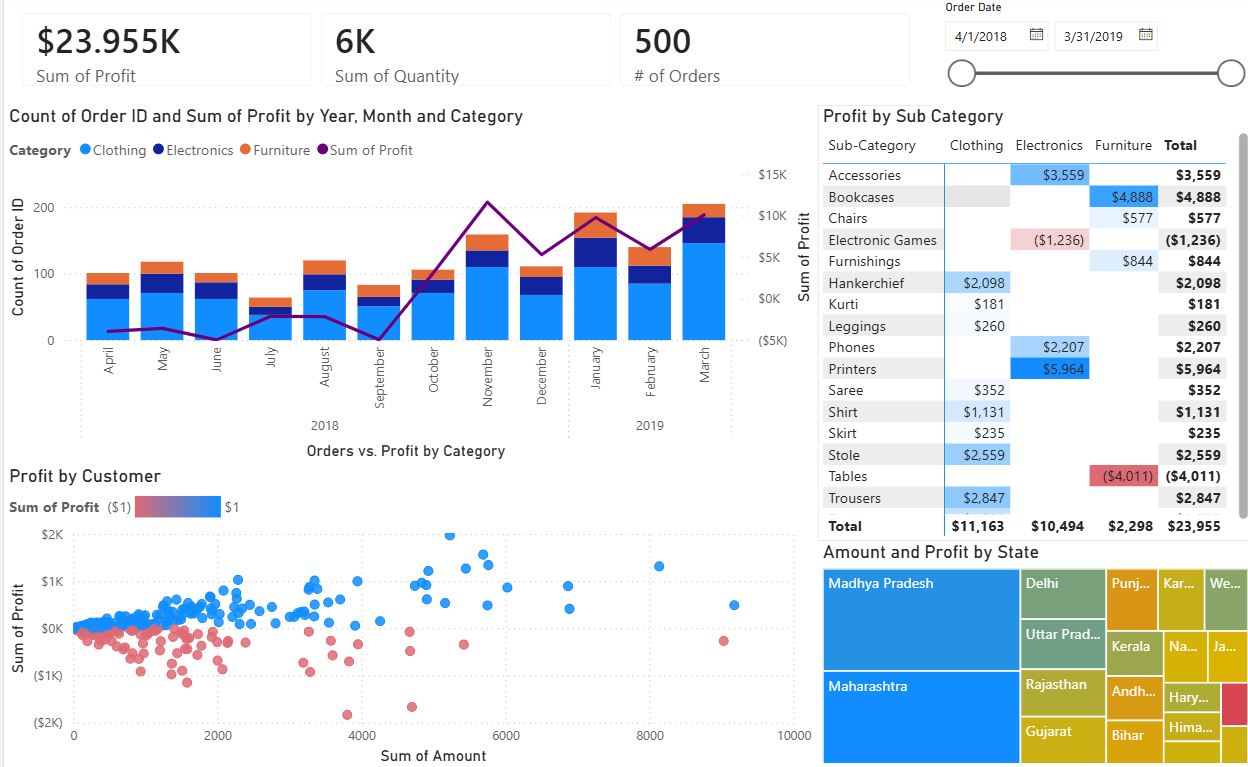

What the dashboard file says about the page in this screenshot:
{"tool":"powerbi","page":{"name":"Profit Analysis","canvas":[1280,720],"ordinal":0},"visuals":[{"type":"cardVisual","fields":{"Data":["Sum(Order Details.Profit)","Sum(Order Details.Quantity)","Count(List of Orders.Order ID)"]},"box":[0,0,862.2,102.2],"z":0},{"type":"lineStackedColumnComboChart","fields":{"Category":["List of Orders.Order Date.Variation.Date Hierarchy.Year","List of Orders.Order Date.Variation.Date Hierarchy.Month"],"Y":["CountNonNull(Order Details.Order ID)"],"Y2":["Sum(Order Details.Profit)"],"Series":["Order Details.Category"]},"box":[0,102.2,756.7,334.4],"z":1000},{"type":"pivotTable","title":"Profit by Sub Category","fields":{"Rows":["Order Details.Sub-Category"],"Columns":["Order Details.Category"],"Values":["Sum(Order Details.Profit)"]},"box":[756.7,102.2,405.6,405.6],"z":2000},{"type":"scatterChart","title":"Profit by Customer","fields":{"X":["Sum(Order Details.Amount)"],"Y":["Sum(Order Details.Profit)"],"Category":["List of Orders.CustomerName"]},"box":[0,436.7,756.7,283.3],"z":3000},{"type":"treemap","title":"Amount and Profit by State","fields":{"Values":["Sum(Order Details.Amount)"],"Group":["List of Orders.State"]},"box":[756.7,507.8,405.6,212.2],"z":4000},{"type":"slicer","fields":{"Values":["List of Orders.Order Date"]},"box":[862.2,0,300,102.2],"z":5000}]}

Visuals, with their boxes on the page's 1280x720 design canvas (x1, y1, x2, y2). These are canvas units, not pixel positions in the 1248x767 screenshot, which may show the page scaled, cropped or inside an application window:
cardVisual - Sum(Order Details.Profit) x Sum(Order Details.Quantity): detection(0, 0, 862, 102)
lineStackedColumnComboChart - List of Orders.Order Date.Variation.Date Hierarchy.Year x List of Orders.Order Date.Variation.Date Hierarchy.Month: detection(0, 102, 757, 437)
"Profit by Sub Category" pivotTable: detection(757, 102, 1162, 508)
"Profit by Customer" scatterChart: detection(0, 437, 757, 720)
"Amount and Profit by State" treemap: detection(757, 508, 1162, 720)
slicer - List of Orders.Order Date: detection(862, 0, 1162, 102)
